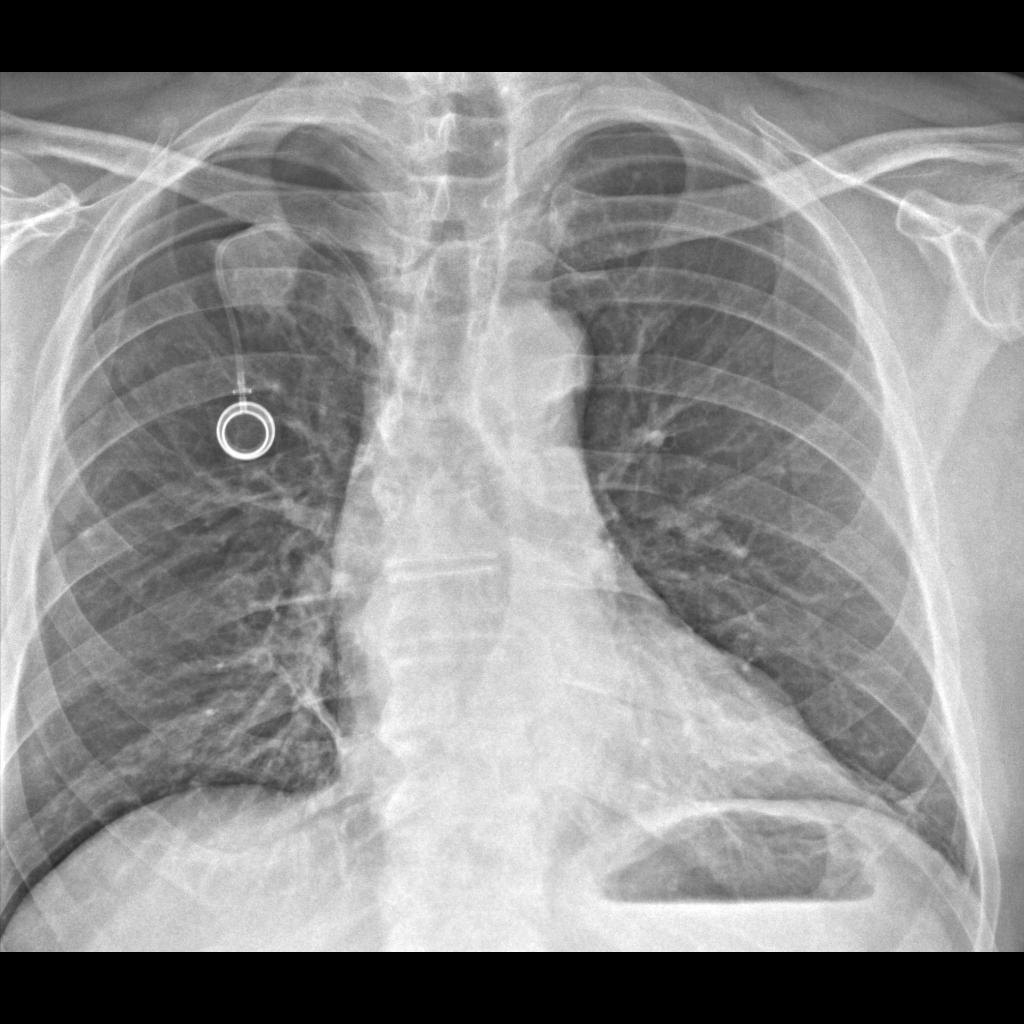Nodule: (198, 212, 315, 326)
